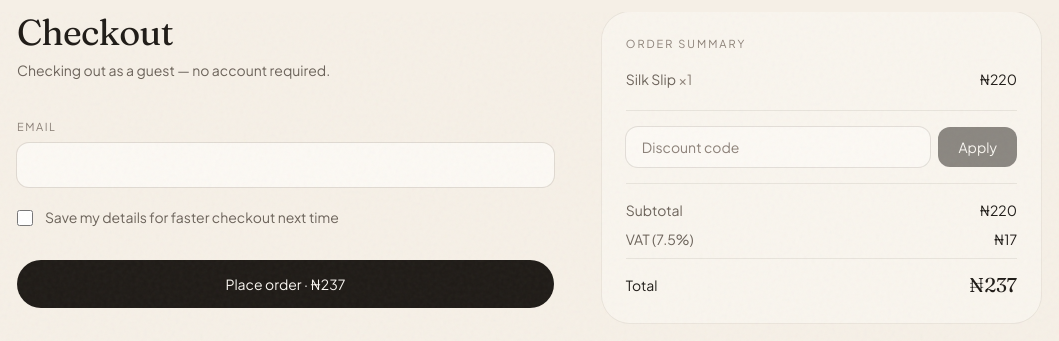
Test: CheckoutForm › places a guest order and shows confirmation
Expected: the text "VAT (7.5%)" is shown, [626,228,694,250]
Type "jane@x.com" into the field labelled "Email" at (285, 165), box [17,143,554,187]
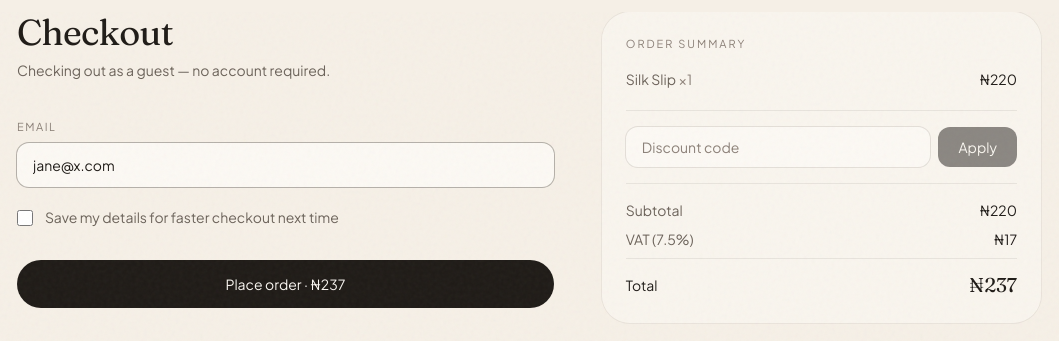
Click the button "Place order · ₦237" at (285, 284), box [17,260,554,308]
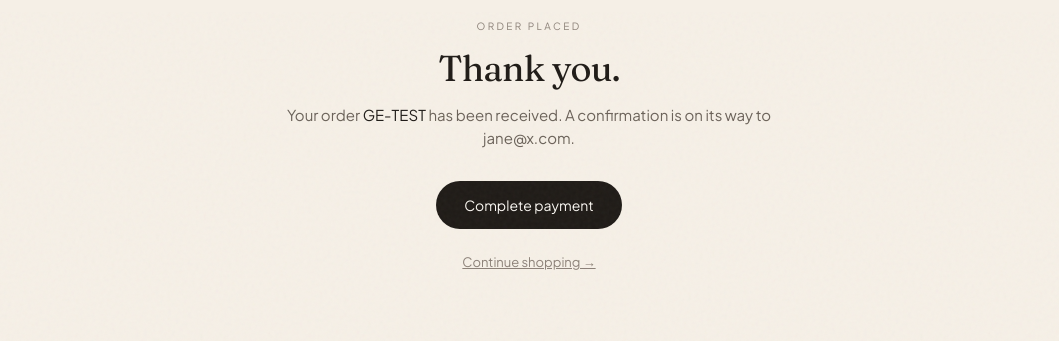
Expected: the heading "Thank you." is shown, [438,46,620,90]
Expected: the text "GE-TEST" is shown, [363,105,426,124]
